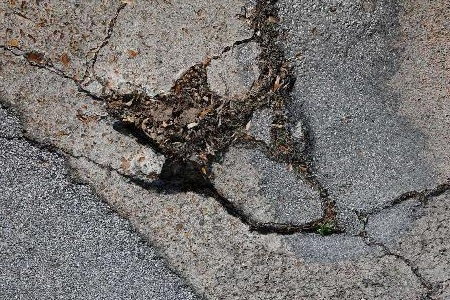pothole: (101, 30, 346, 240)
